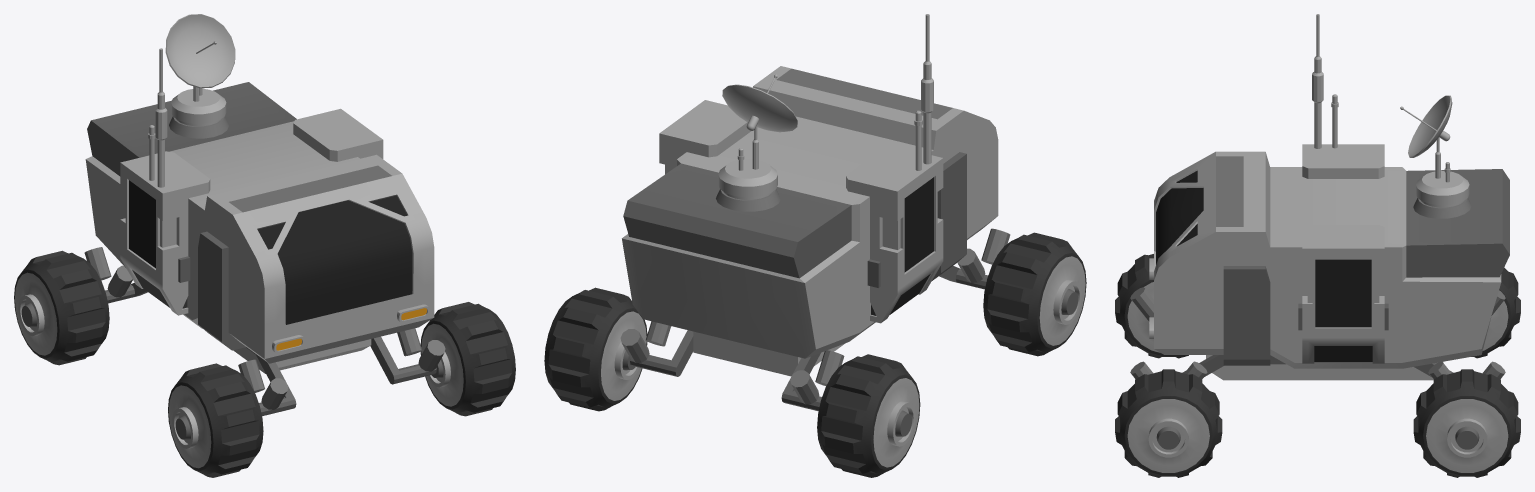
The model's file is Rover.glb.
The picture shows the model from 3 angles, left to right: view 1: azimuth 30°, elevation 25°; view 2: azimuth 150°, elevation 25°; view 3: azimuth 270°, elevation 25°; orthographic projection. The views are drawn at different scales.
Visible parts, largest first — view 1: Rover_1, Wheel_4.001, Wheel_4.002, Wheel_5; view 2: Rover_1, Wheel_4.001, Wheel_4.002, Wheel_1.002; view 3: Rover_1, Wheel_5, Wheel_1.002, Wheel_4.001, Wheel_4.002.
Boxes of the visible parts, <box> form: Rover_1: <box>84,14,445,416</box>; Wheel_4.001: <box>168,363,263,477</box>; Wheel_4.002: <box>14,250,109,365</box>; Wheel_5: <box>420,302,515,416</box>; Rover_1: <box>620,14,1010,411</box>; Wheel_4.001: <box>983,232,1086,356</box>; Wheel_4.002: <box>817,354,920,477</box>; Wheel_1.002: <box>544,287,647,411</box>; Rover_1: <box>1130,14,1509,380</box>; Wheel_5: <box>1115,369,1222,477</box>; Wheel_1.002: <box>1413,369,1520,477</box>; Wheel_4.001: <box>1115,254,1188,358</box>; Wheel_4.002: <box>1471,267,1520,358</box>.
Size of the model in its own units: 4.58 by 4.88 by 5.16.
Materials: 1 (1 with a texture image).
